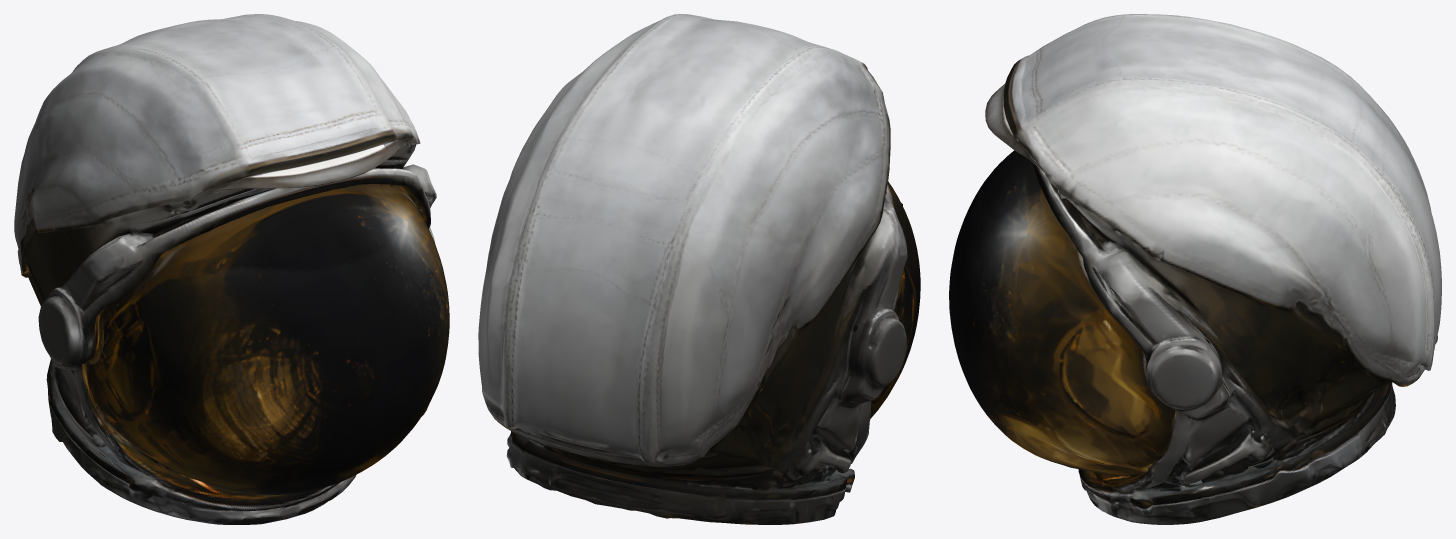
The model's file is orbitone-helmet.glb.
3 views of the same model, side by side, from view 1: azimuth 30°, elevation 25°; view 2: azimuth 150°, elevation 25°; view 3: azimuth 270°, elevation 25° (orthographic). The views are drawn at different scales.
Parts seen in each view (by area): view 1: tripo_node_39db1752-d0f3-45de-abce-31145e66fc82; view 2: tripo_node_39db1752-d0f3-45de-abce-31145e66fc82; view 3: tripo_node_39db1752-d0f3-45de-abce-31145e66fc82.
Boxes of the visible parts, x1=… form: tripo_node_39db1752-d0f3-45de-abce-31145e66fc82: x1=14, y1=14, x2=449, y2=524; tripo_node_39db1752-d0f3-45de-abce-31145e66fc82: x1=478, y1=14, x2=920, y2=524; tripo_node_39db1752-d0f3-45de-abce-31145e66fc82: x1=949, y1=14, x2=1441, y2=524.
Bounding box in the file's own units: 0.8555 × 0.9976 × 1.
Materials: 1 (1 with a texture image).
